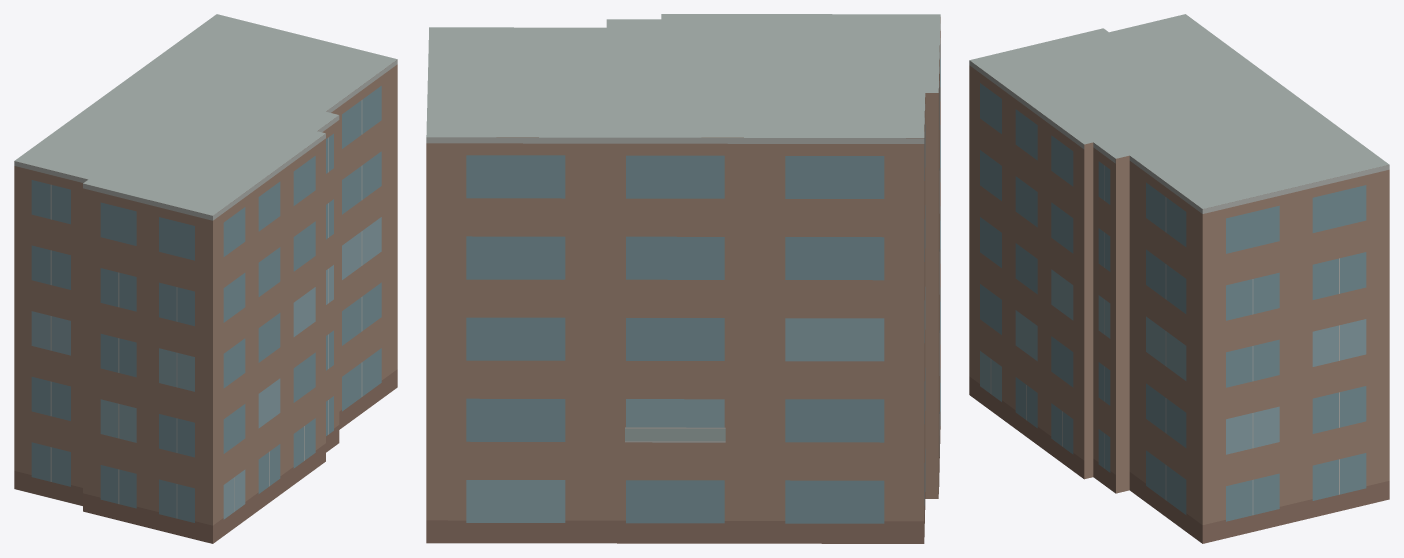
The model's file is survey-upis-32543218.glb.
3 views of the same model, side by side, from view 1: azimuth 30°, elevation 25°; view 2: azimuth 150°, elevation 25°; view 3: azimuth 270°, elevation 25° (orthographic). The views are drawn at different scales.
Visible parts, largest first — view 1: survey-upis-32543218.tmp; view 2: survey-upis-32543218.tmp; view 3: survey-upis-32543218.tmp.
Part boxes in pixels (box(x1,y1,x2,y2)): survey-upis-32543218.tmp: box(14, 14, 397, 543); survey-upis-32543218.tmp: box(426, 14, 940, 543); survey-upis-32543218.tmp: box(969, 14, 1389, 543).
Bounding box in the file's own units: 20.45 × 16.35 × 18.61.
